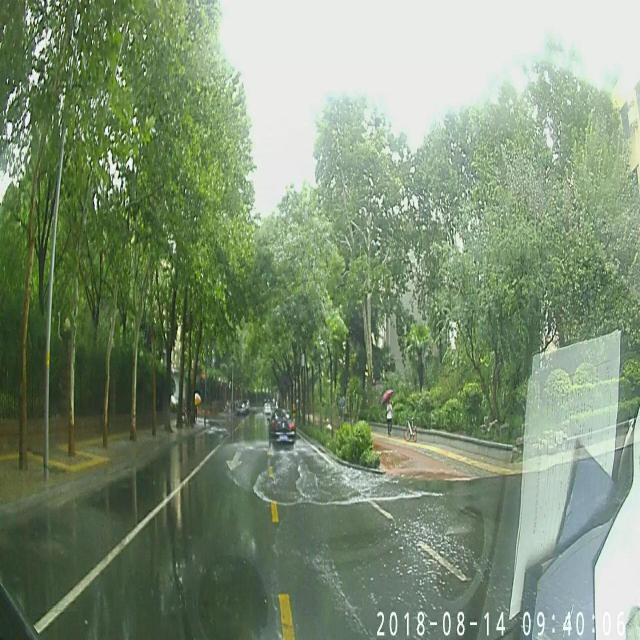car: (266, 406, 296, 449), (238, 400, 252, 414)
